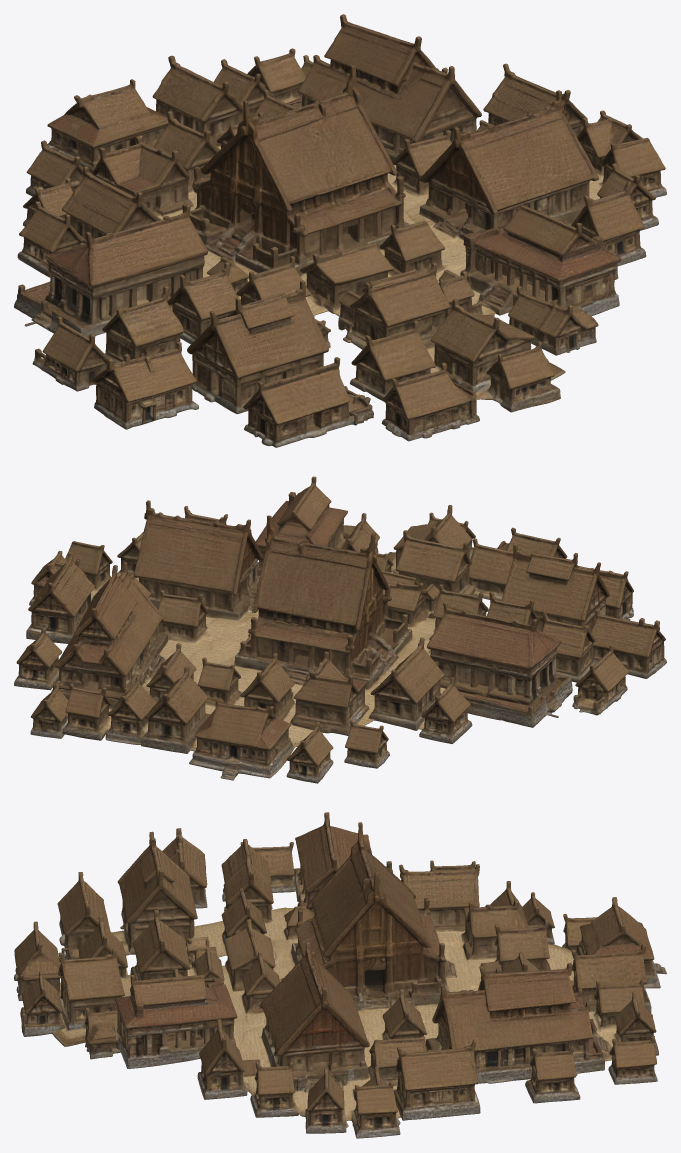
Rendered from Classical City (Western).fbx.
3 renders of one model, top to bottom at view 1: azimuth 30°, elevation 25°; view 2: azimuth 150°, elevation 25°; view 3: azimuth 270°, elevation 25°, orthographic. The views are drawn at different scales.
Visible parts, largest first — view 1: tripo_node_056a3773; view 2: tripo_node_056a3773; view 3: tripo_node_056a3773.
Boxes of the visible parts, x1,y1,x2,y2 form: tripo_node_056a3773: (14,14,666,447); tripo_node_056a3773: (14,476,666,783); tripo_node_056a3773: (14,812,666,1138).
Size of the model in its own units: 0.9963 by 0.2766 by 1.
